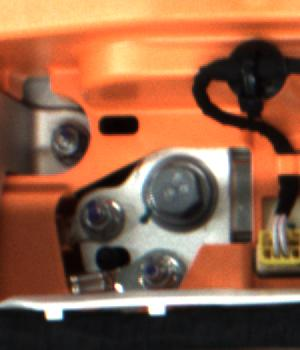nut_b: (140, 153, 222, 230)
screw_s: (77, 196, 125, 239), (46, 119, 86, 163), (139, 254, 178, 291)
